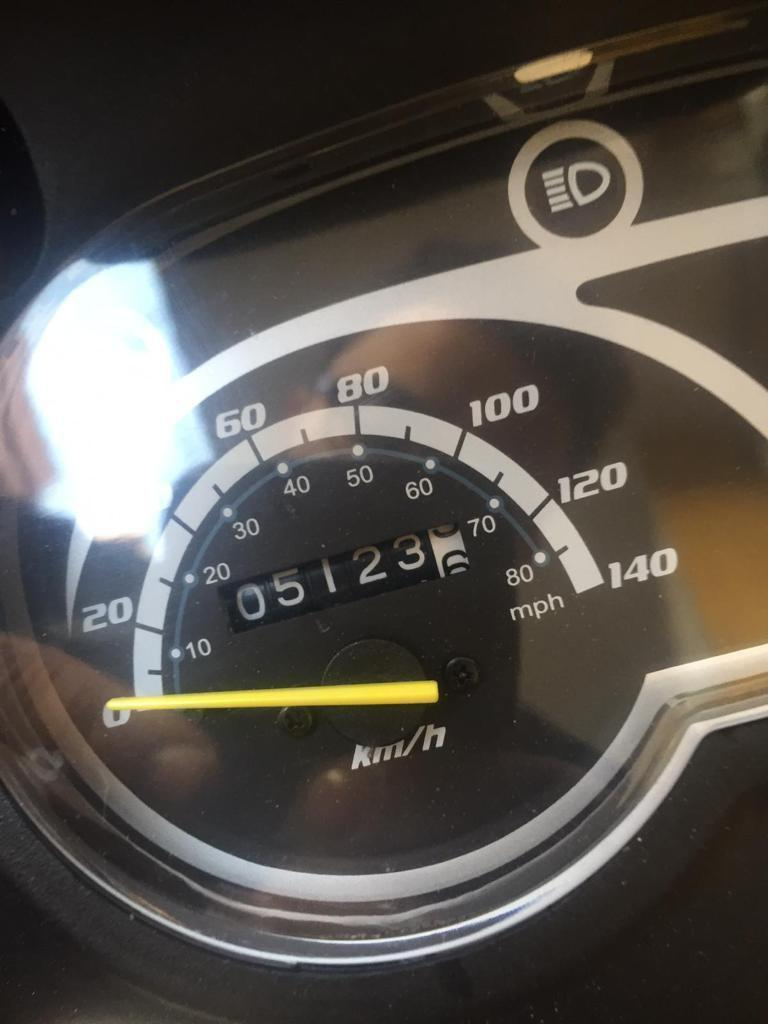0: (233, 581, 268, 622), (246, 517, 262, 537), (216, 560, 231, 581)
1: (316, 554, 342, 597)
2: (349, 542, 389, 587), (209, 564, 218, 586)
3: (391, 531, 426, 571), (230, 520, 246, 540)
5: (270, 565, 307, 608)
6: (438, 548, 472, 577)
odometer: (210, 516, 473, 639)
